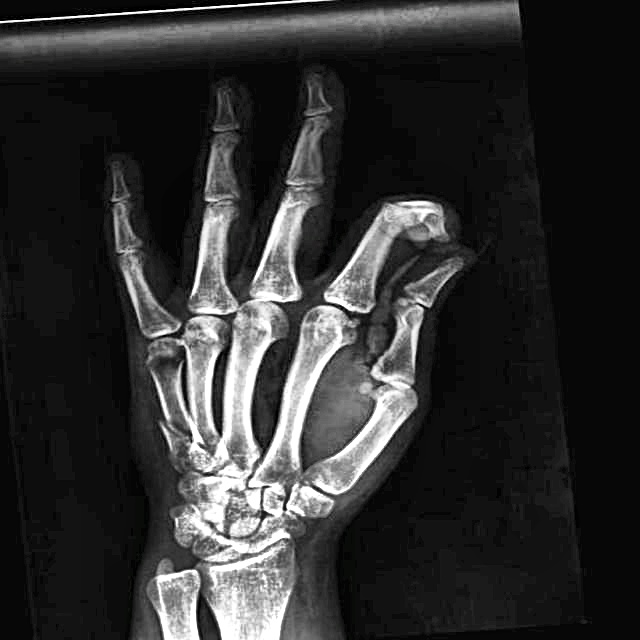Comminuted: (384, 182, 464, 252)
Oblique Displaced: (141, 390, 211, 462)
